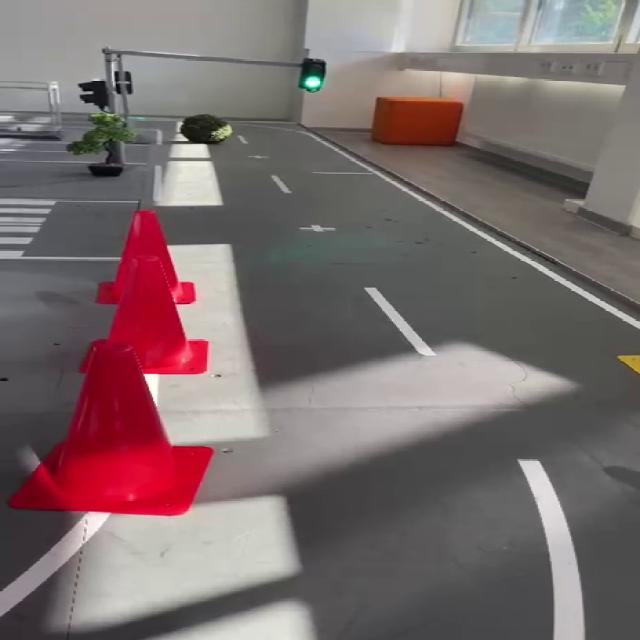Cone-red: (10, 340, 212, 515), (108, 258, 207, 375), (99, 210, 194, 304)
Cones-yellow: (618, 355, 639, 374)
